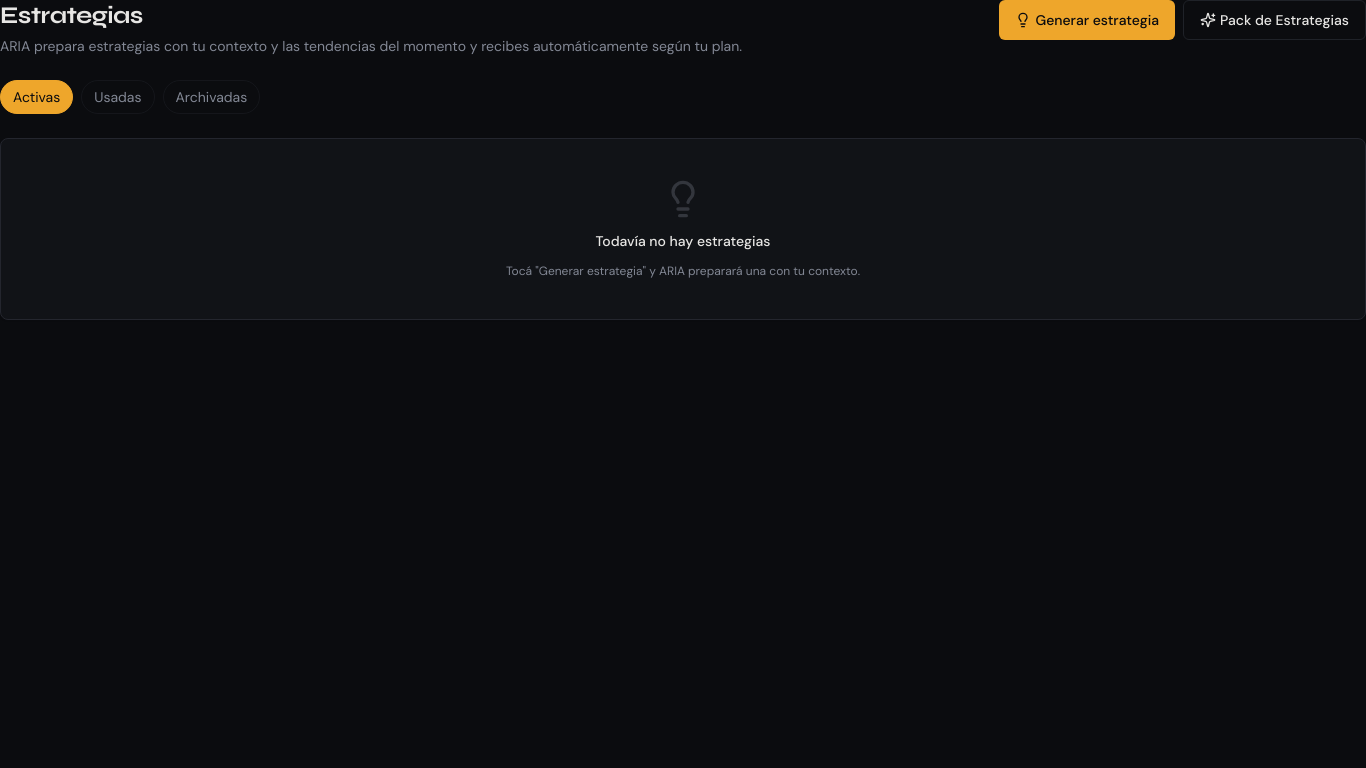
Estrategias · header (C1) › test_pack_dialog_intacto · el boton Pack abre su dialogo coming-soon
Expected: the text "coming soon" is not shown
What coordinates should you click on to do the following:
click the button "Pack de Estrategias"
I would click on:
 (1275, 20)
Its box is [1183,0,1365,40].
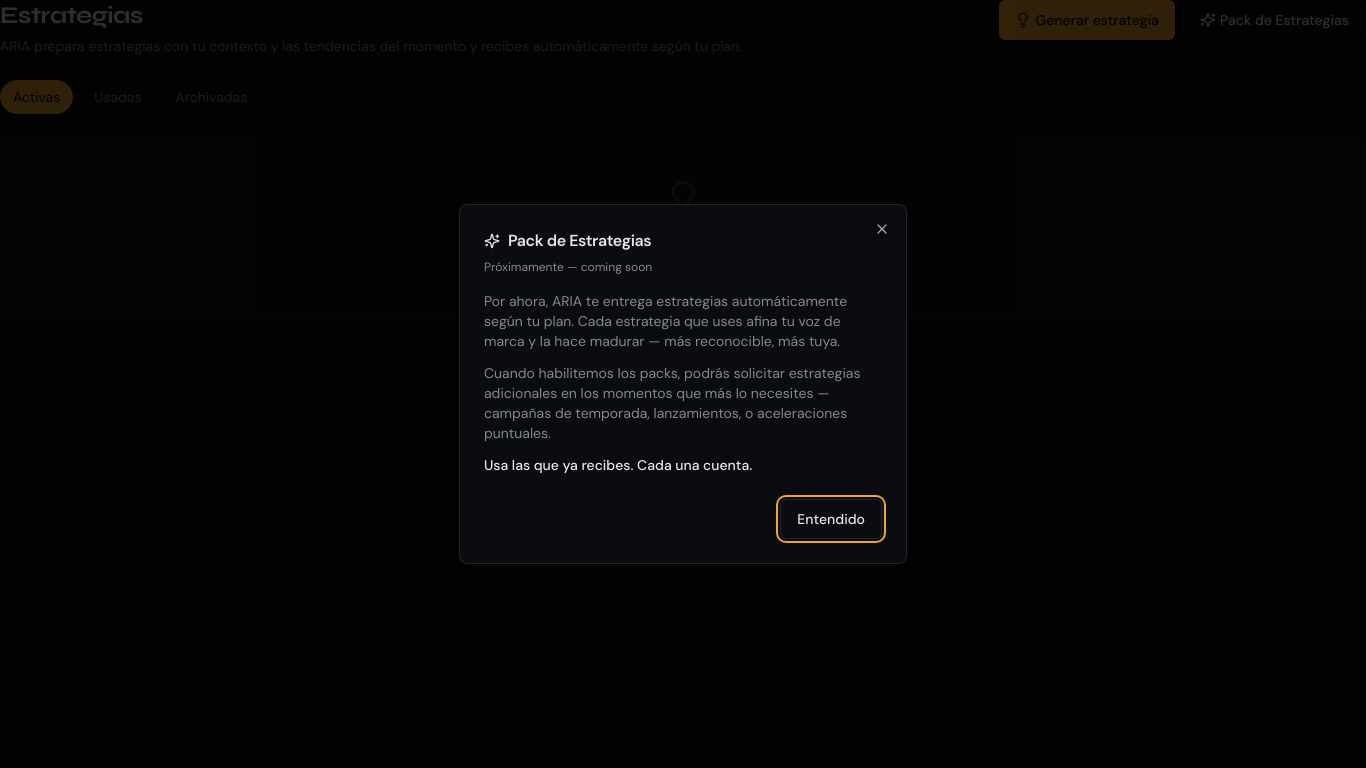
Expected: the text "Próximamente — coming soon" is shown, [484,259,652,275]
